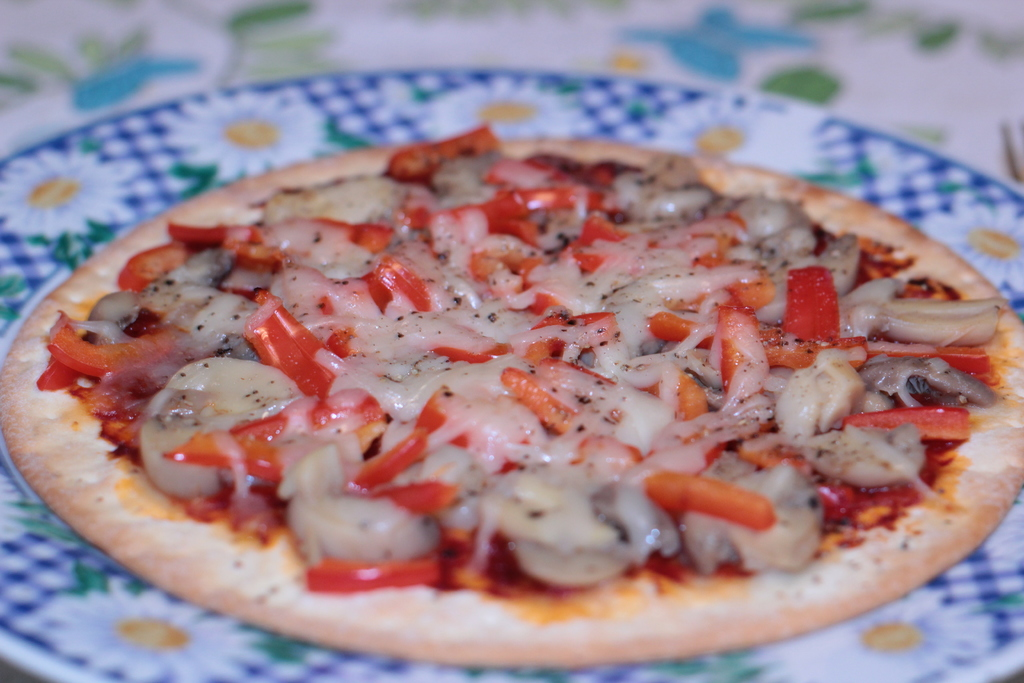pizza: (8, 92, 1009, 679)
